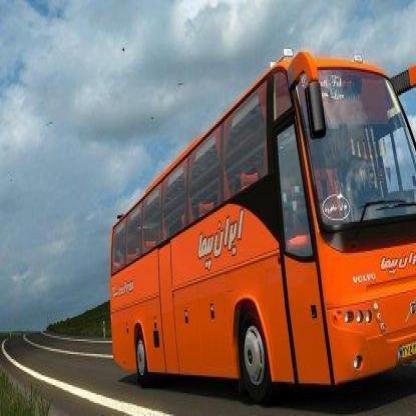Bus: (94, 50, 416, 400)
